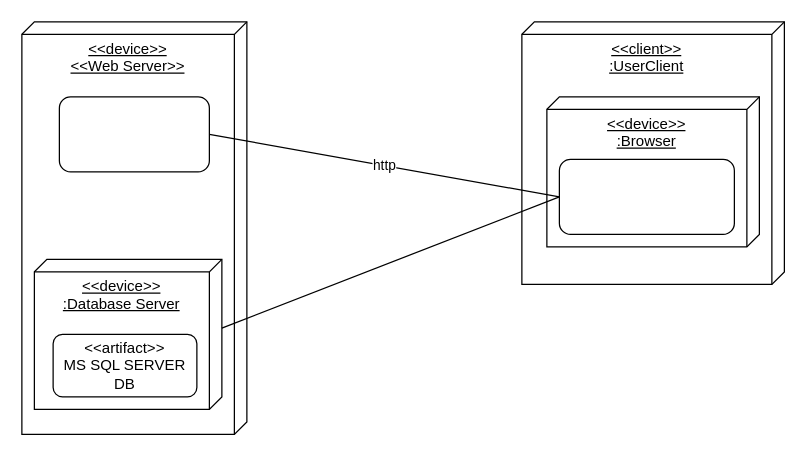
This 806x456 diagram has some shape labels left out. The centre of each missing label's shape, as x and y in pixels:
"<<artifact>> React" goes at (x=646, y=196).
"<<artifact>> Website" goes at (x=133, y=134).
